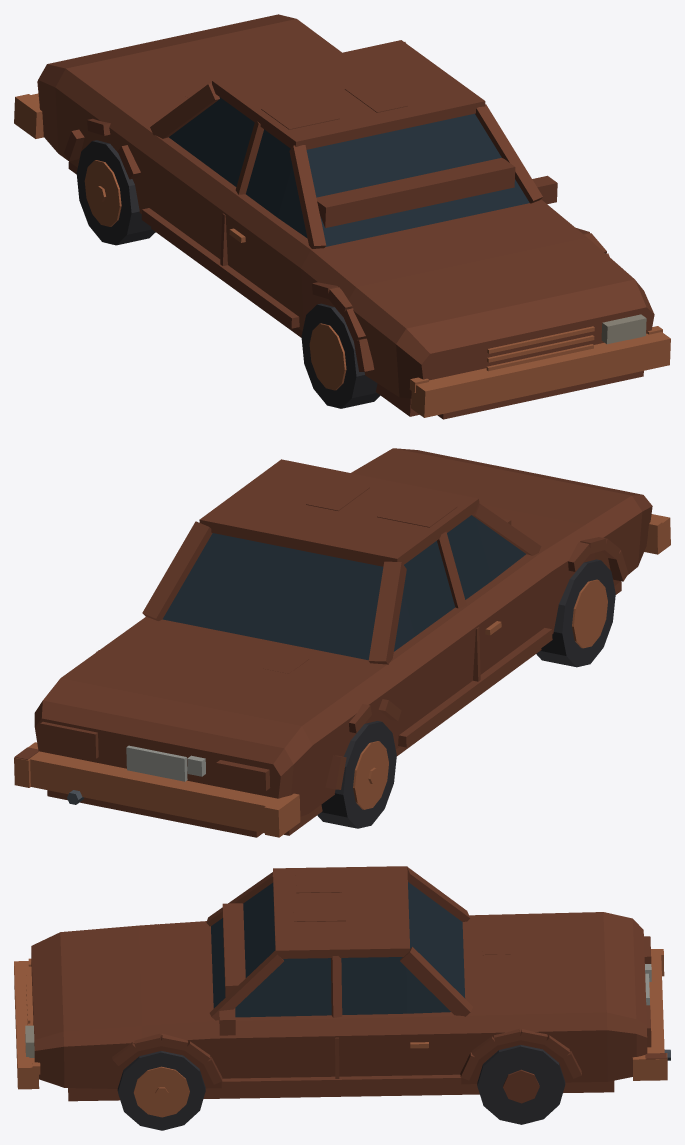
Rendered from GV_Sedan_Red_Damaged_01.glb.
3 renders of one model, top to bottom at view 1: azimuth 30°, elevation 25°; view 2: azimuth 150°, elevation 25°; view 3: azimuth 270°, elevation 25°, orthographic. The views are drawn at different scales.
Visible parts, largest first — view 1: GV_Sedan_Red_Damaged_01; view 2: GV_Sedan_Red_Damaged_01; view 3: GV_Sedan_Red_Damaged_01.
Boxes of the visible parts, x1=… form: GV_Sedan_Red_Damaged_01: x1=14, y1=14, x2=670, y2=419; GV_Sedan_Red_Damaged_01: x1=14, y1=448, x2=670, y2=837; GV_Sedan_Red_Damaged_01: x1=14, y1=866, x2=670, y2=1130.
Size of the model in its own units: 1.97 by 1.46 by 4.93.
Materials: 1 (1 with a texture image).
